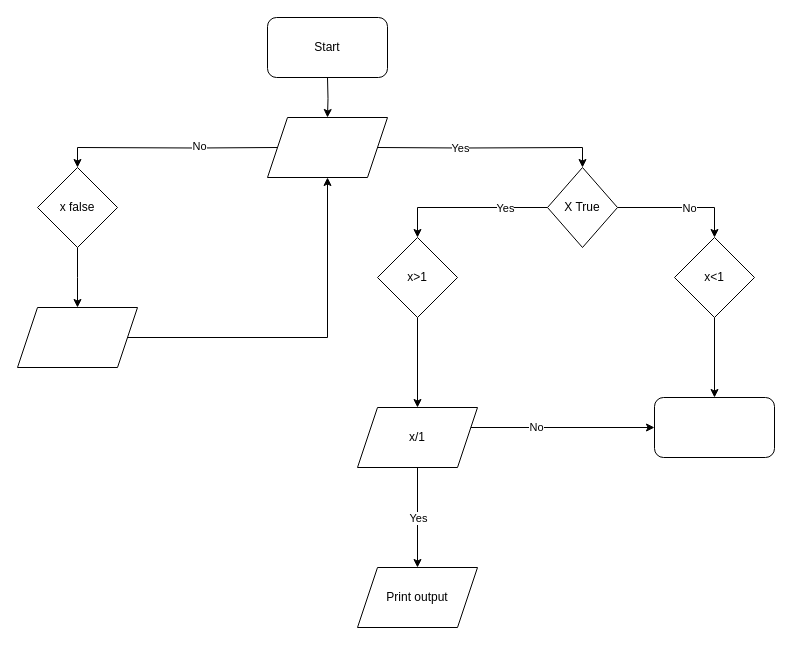
Image size: 792x645. Some labels were removed from this diagram. Each missing label, with the centre of its shape:
End: (714,427)
Error: (77,337)
input number x: (327,147)
